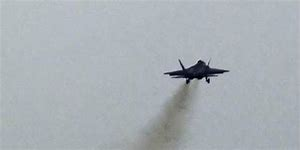smoke: (169, 83, 201, 126)
